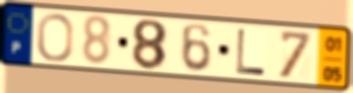6: (179, 22, 213, 74)
7: (278, 29, 314, 82)
8: (130, 17, 170, 72), (80, 13, 114, 68)
L: (234, 27, 267, 78)
O: (35, 11, 76, 64)
